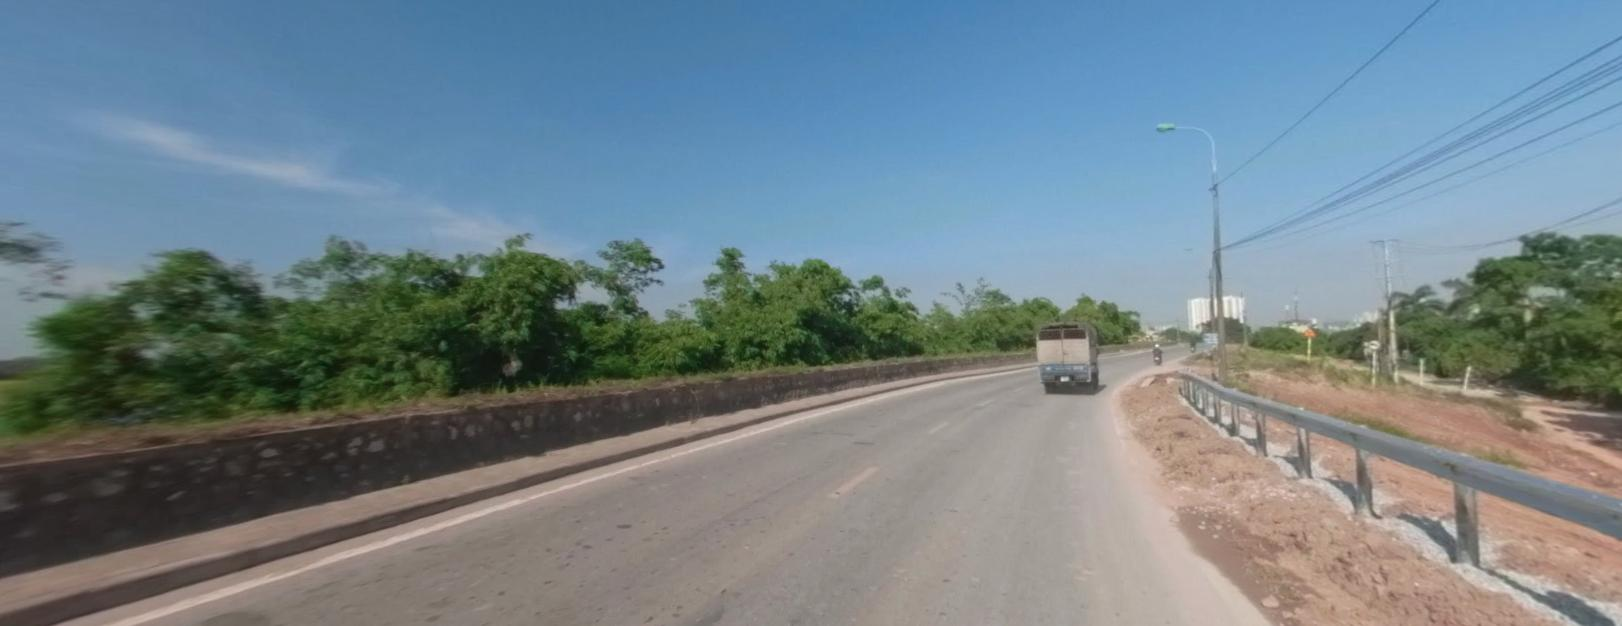Nguy hiem: (1304, 324, 1316, 333)
